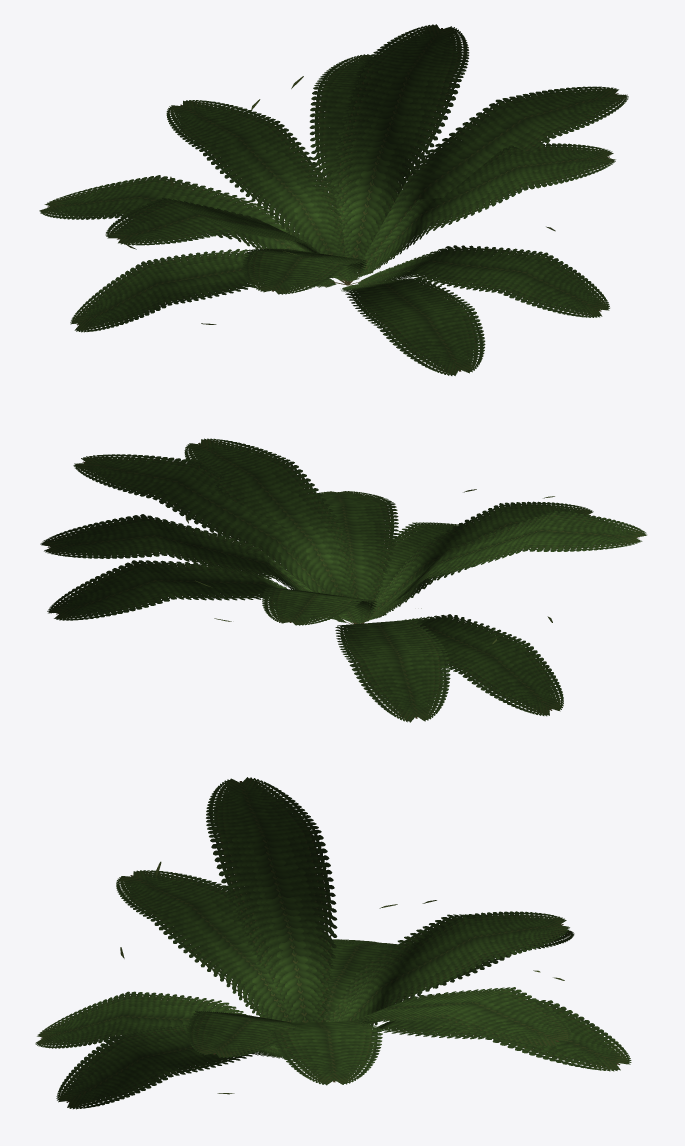
The model's file is ENV_Fern_01.fbx.
3 renders of one model, top to bottom at view 1: azimuth 30°, elevation 25°; view 2: azimuth 150°, elevation 25°; view 3: azimuth 270°, elevation 25°, orthographic. The views are drawn at different scales.
Visible parts, largest first — view 1: ENV_Fern_01_LOD0; view 2: ENV_Fern_01_LOD0; view 3: ENV_Fern_01_LOD0.
Part boxes in pixels (x1=…): ENV_Fern_01_LOD0: x1=39, y1=24, x2=628, y2=375; ENV_Fern_01_LOD0: x1=40, y1=438, x2=646, y2=722; ENV_Fern_01_LOD0: x1=35, y1=777, x2=631, y2=1109.
Size of what is drawn, in the model's own units: 2.17 by 0.5164 by 2.
